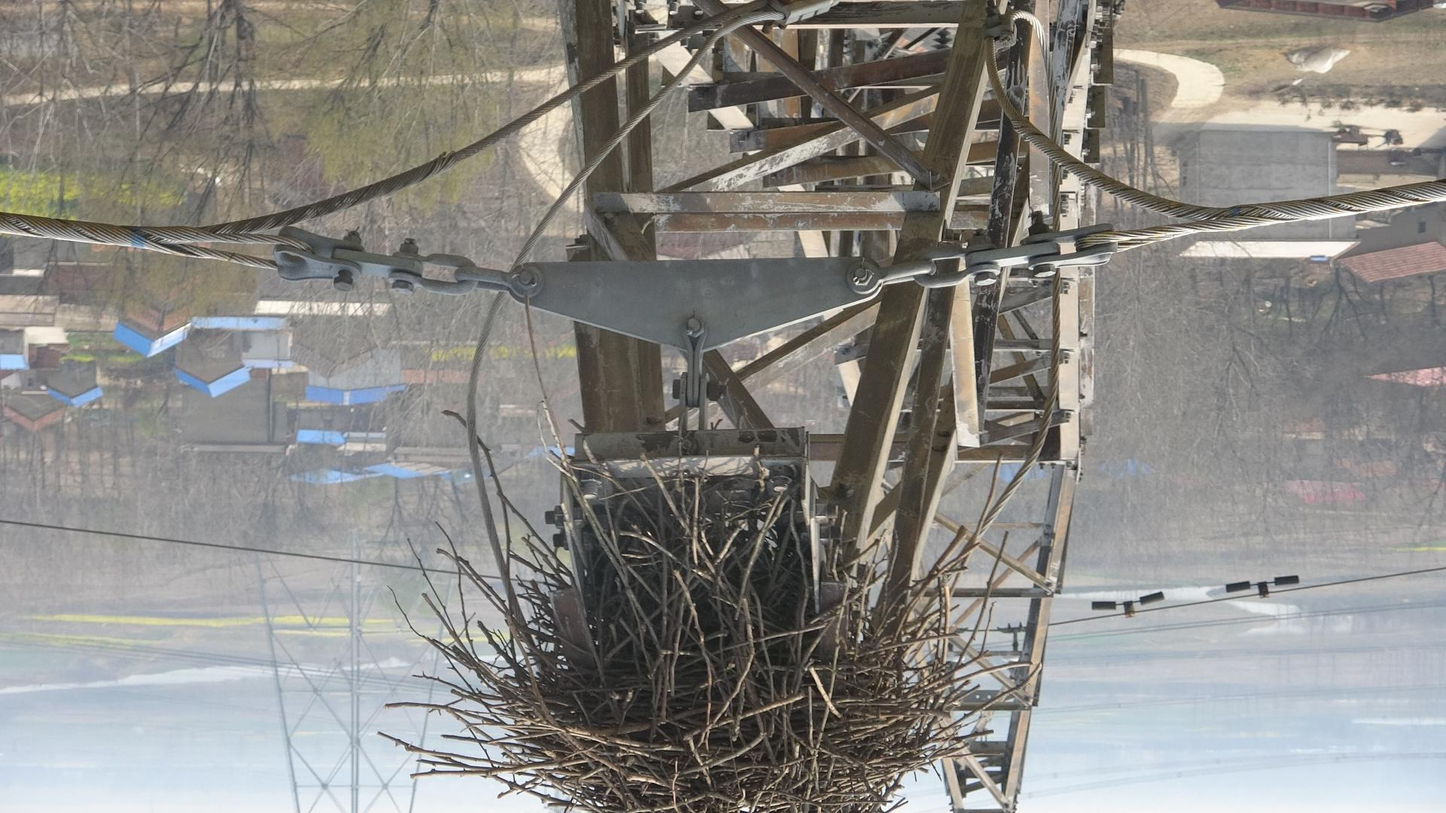damper: (1088, 587, 1169, 623), (1219, 571, 1304, 602)
nest: (387, 456, 1010, 813)
